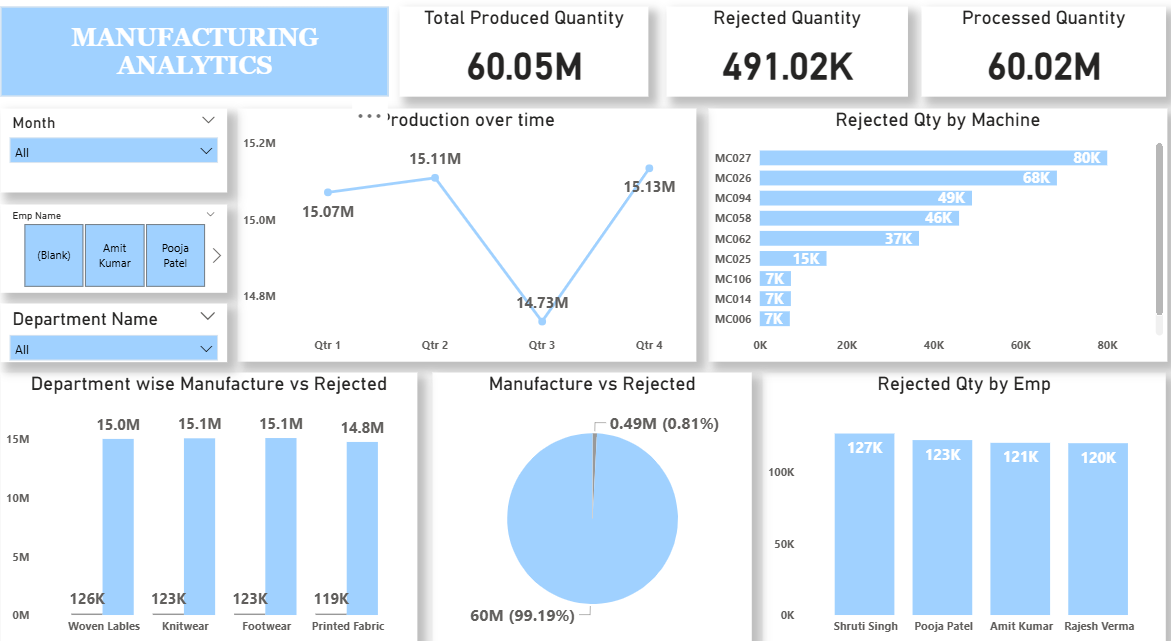

This screenshot's page, from the dashboard's own definition file:
{"tool":"powerbi","page":{"name":"Page 1","canvas":[1280,720],"ordinal":0},"visuals":[{"type":"card","title":"Total Produced Quantity","fields":{"Values":["Sum(Sheet1.Produced Qty)"]},"box":[442,21,268.8,97.2],"z":0},{"type":"card","title":"Rejected Quantity","fields":{"Values":["Sum(Sheet1.Rejected Qty)"]},"box":[730.3,21,260.7,97.2],"z":1000},{"type":"card","title":"Processed Quantity","fields":{"Values":["Sum(Sheet1.Processed Qty)"]},"box":[1005.5,21,263.9,97.2],"z":2000},{"type":"columnChart","title":"Rejected Qty by Emp ","fields":{"Category":["Sheet1.Emp Name"],"Y":["Sum(Sheet1.Rejected Qty)"]},"box":[833.9,416.1,435.6,291.5],"z":3000},{"type":"barChart","title":"Rejected Qty by Machine ","fields":{"Category":["Sheet1.Machine Code"],"Y":["Sum(Sheet1.Rejected Qty)"]},"box":[775.6,131.2,495.5,273.6],"z":4000},{"type":"lineChart","title":"Production over  time ","fields":{"Category":["Sheet1.Doc Date.Variation.Date Hierarchy.Year","Sheet1.Doc Date.Variation.Date Hierarchy.Quarter","Sheet1.Doc Date.Variation.Date Hierarchy.Month"],"Y":["Sum(Sheet1.Produced Qty)"]},"box":[267.2,131.2,495.5,273.6],"z":5000},{"type":"pieChart","title":"Manufacture vs Rejected","fields":{"Y":["Sum(Sheet1.Rejected Qty)","Sum(Sheet1.Produced Qty)"]},"box":[477.7,416.1,344.9,291.5],"z":6000},{"type":"clusteredColumnChart","title":"Department wise Manufacture vs Rejected ","fields":{"Category":["Sheet1.Department Name"],"Y":["Sum(Sheet1.Rejected Qty)","Sum(Sheet1.Produced Qty)"]},"box":[11.3,416.1,450.1,291.5],"z":7000},{"type":"slicer","title":"Rejected Qty by Emp ","fields":{"Values":["Sheet1.Doc Date.Variation.Date Hierarchy.Month"]},"box":[11.3,131.2,244.5,90.7],"z":8000},{"type":"slicer","title":"Rejected Qty by Emp ","fields":{"Values":["Sheet1.Emp Name"]},"box":[11.3,234.8,244.5,95.5],"z":9000},{"type":"slicer","title":"Rejected Qty by Emp ","fields":{"Values":["Sheet1.Department Name"]},"box":[11.3,341.7,244.5,63.1],"z":10000},{"type":"shape","box":[11.3,21,419.4,97.2],"z":11000}]}

Visuals, with their boxes in screenshot pixels (x1, y1, x2, y2), scaled from the page's 1280x720 canvas onto the 1171x641 screenshot:
"Total Produced Quantity" card: BBox(404, 19, 650, 105)
"Rejected Quantity" card: BBox(668, 19, 907, 105)
"Processed Quantity" card: BBox(920, 19, 1161, 105)
"Rejected Qty by Emp " columnChart: BBox(763, 370, 1161, 630)
"Rejected Qty by Machine " barChart: BBox(710, 117, 1163, 360)
"Production over  time " lineChart: BBox(244, 117, 698, 360)
"Manufacture vs Rejected" pieChart: BBox(437, 370, 753, 630)
"Department wise Manufacture vs Rejected " clusteredColumnChart: BBox(10, 370, 422, 630)
"Rejected Qty by Emp " slicer: BBox(10, 117, 234, 198)
"Rejected Qty by Emp " slicer: BBox(10, 209, 234, 294)
"Rejected Qty by Emp " slicer: BBox(10, 304, 234, 360)
shape: BBox(10, 19, 394, 105)
